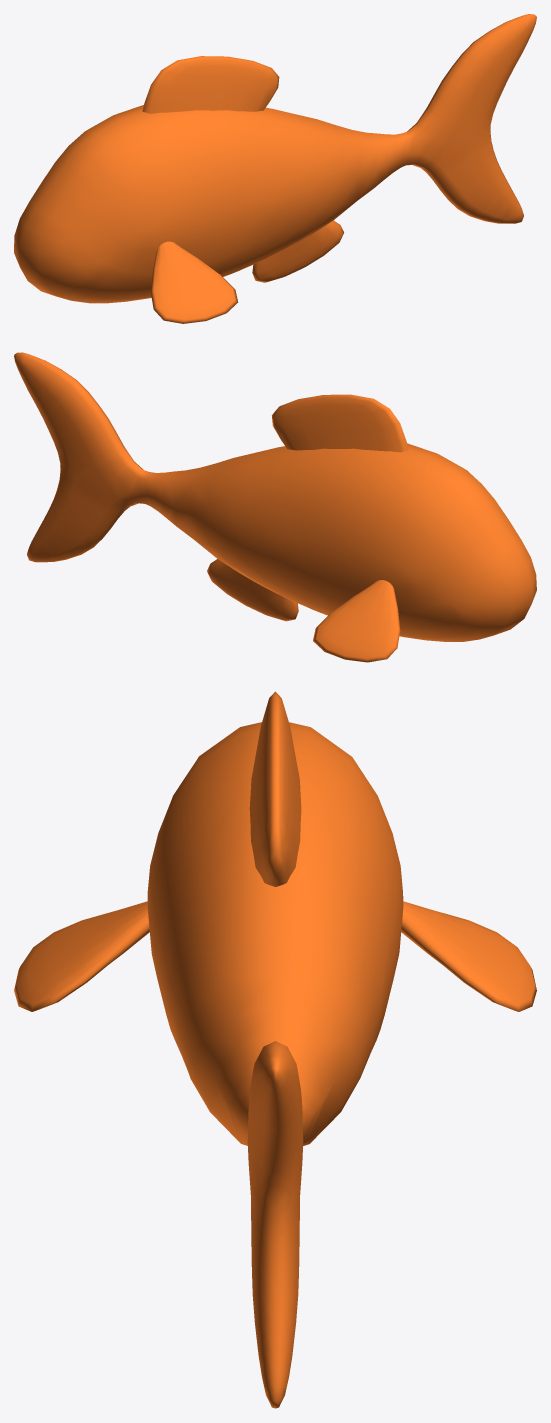
Rendered from fish.glb.
The picture shows the model from 3 angles, top to bottom: view 1: azimuth 30°, elevation 25°; view 2: azimuth 150°, elevation 25°; view 3: azimuth 270°, elevation 25°; orthographic projection. The views are drawn at different scales.
Visible parts, largest first — view 1: mesh_id27; view 2: mesh_id27; view 3: mesh_id27.
Boxes of the visible parts, x1=… form: mesh_id27: x1=14, y1=14, x2=536, y2=323; mesh_id27: x1=14, y1=352, x2=536, y2=662; mesh_id27: x1=14, y1=691, x2=536, y2=1408.
Size of the model in its own units: 0.1742 by 0.0791 by 0.0882.
1 material, 1 textured.
